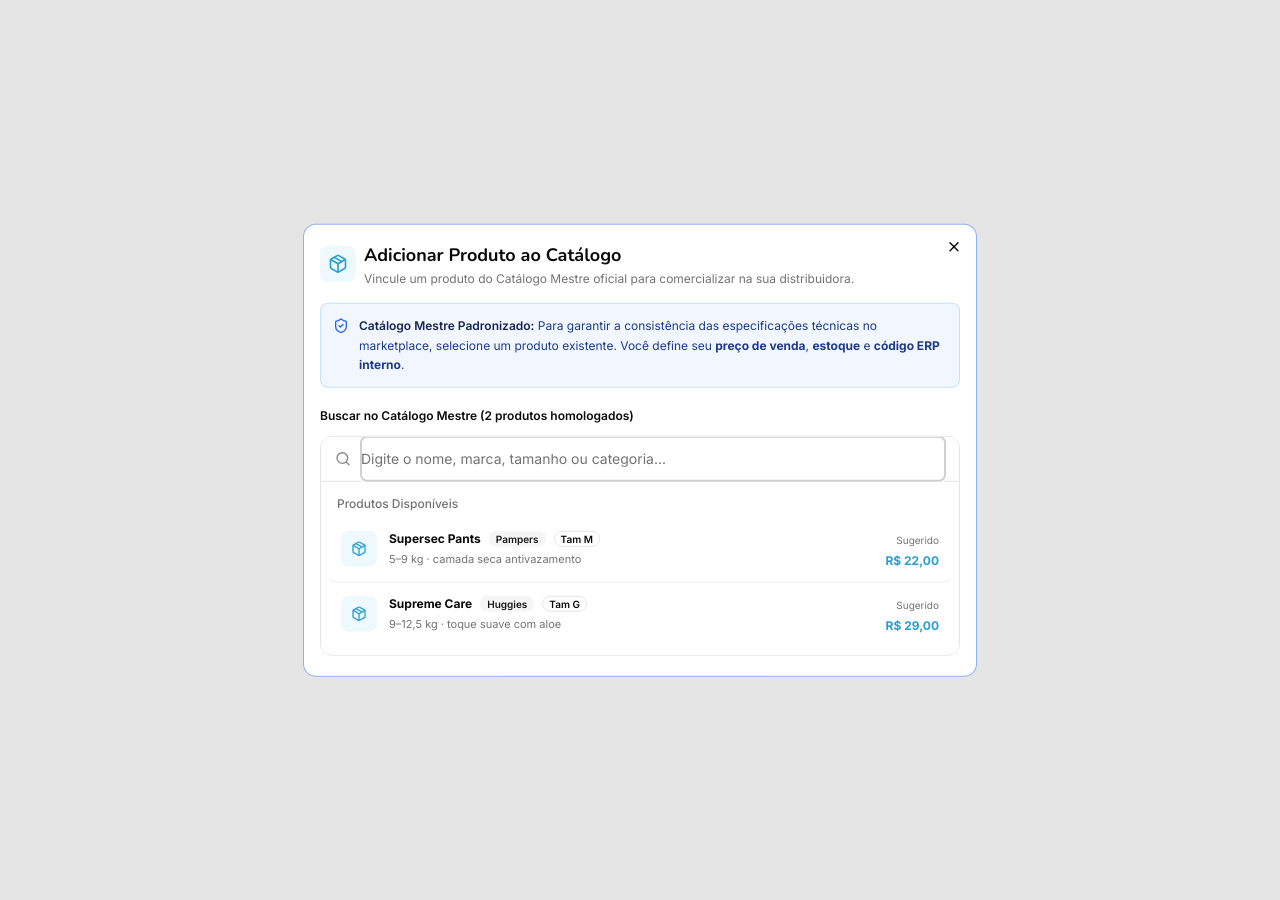
it: AddProductDialog Component › allows switching master product before submitting
This screenshot has width=1280, height=900.
# Select Supersec Pants
Click the option with test id "master-item-m1" at (359, 548), box [329, 517, 951, 582]
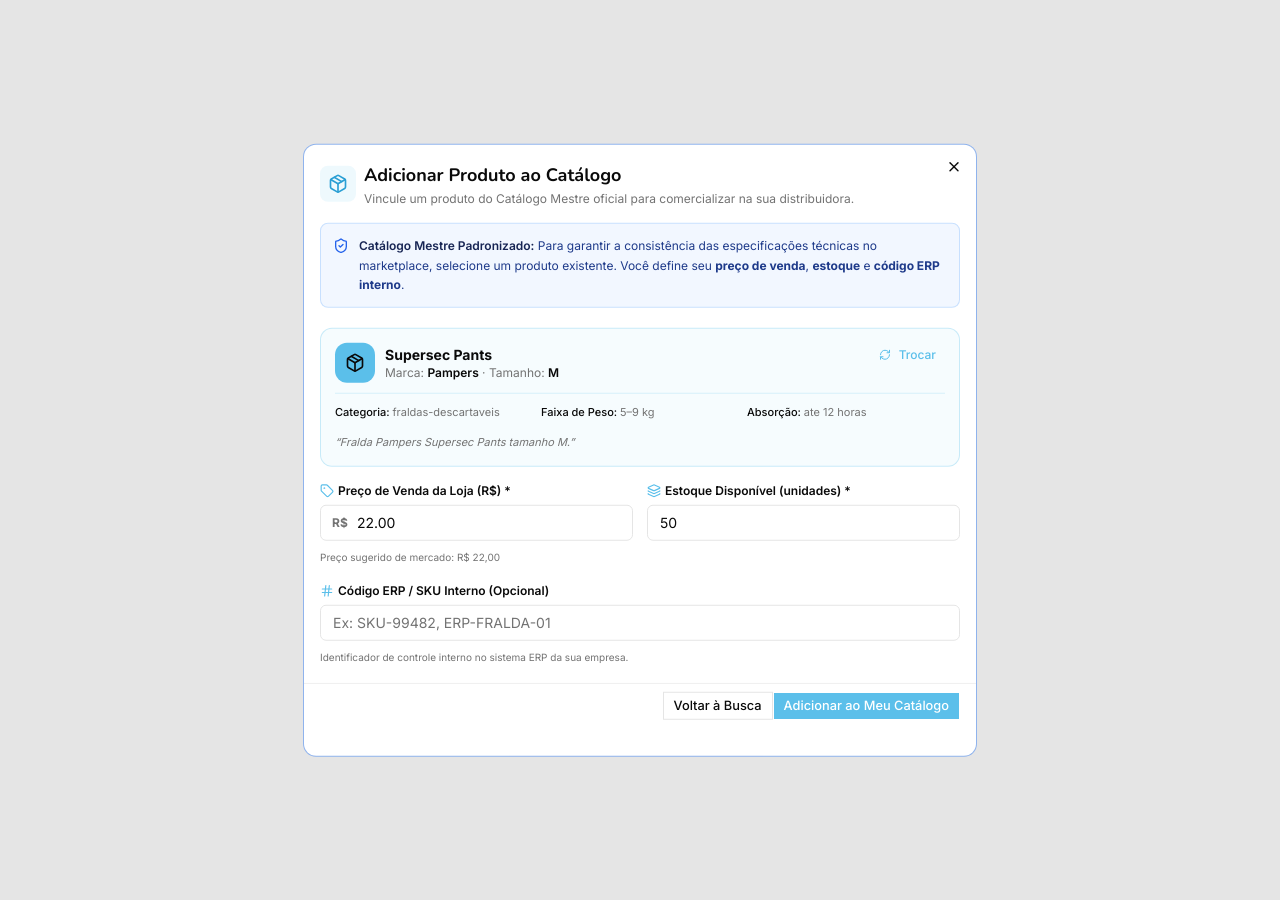
Expected: the heading "Supersec Pants" is shown, [385, 345, 492, 362]
# Click "Trocar"
Click the button "Trocar" at (907, 354), box [870, 342, 945, 366]
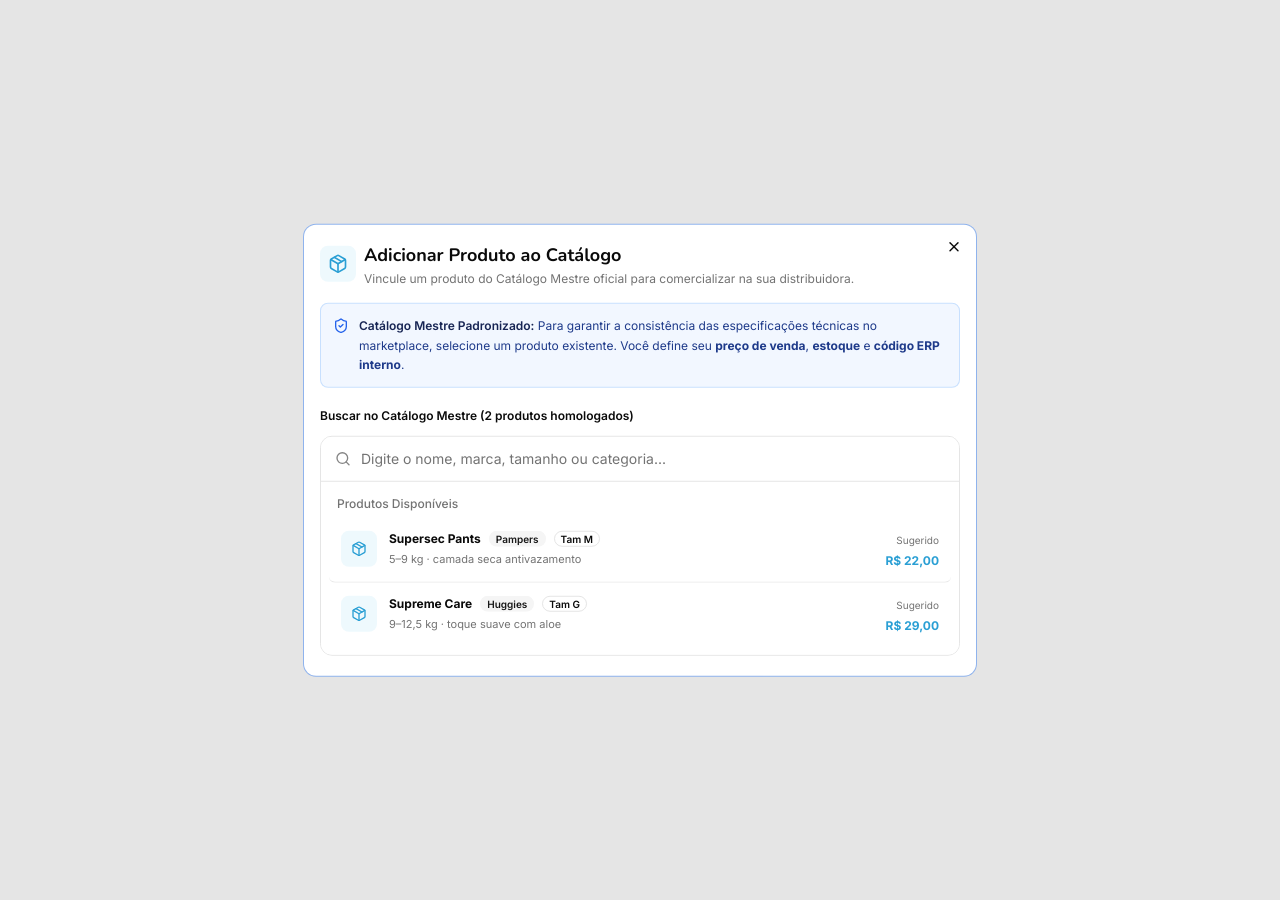
Expected: the field with test id "master-search-input" is shown, [361, 436, 945, 480]
Expected: the text "Supreme Care" is shown, [389, 595, 472, 611]
